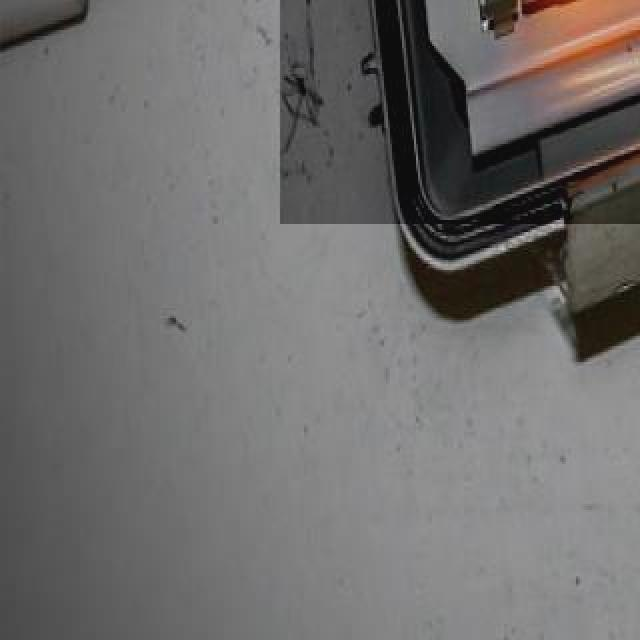fluorescent tube: (432, 0, 640, 56)
